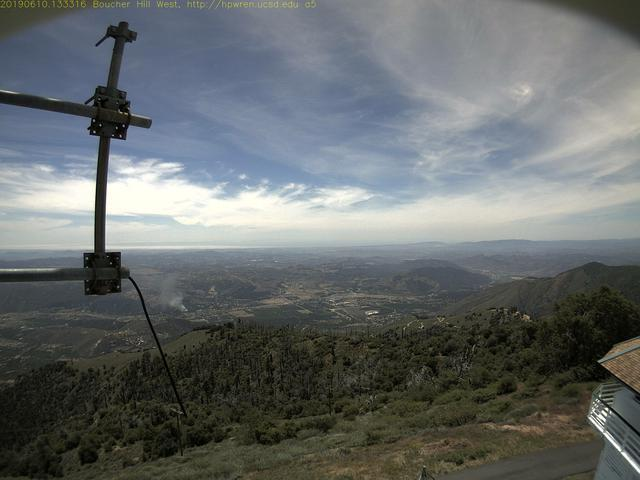smoke: (124, 252, 192, 319)
